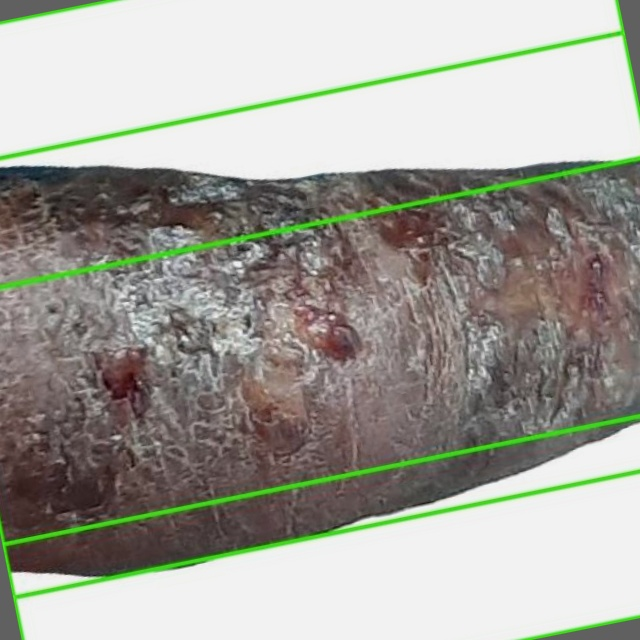Eczema: (0, 32, 639, 597), (0, 0, 639, 288), (3, 416, 639, 639)
